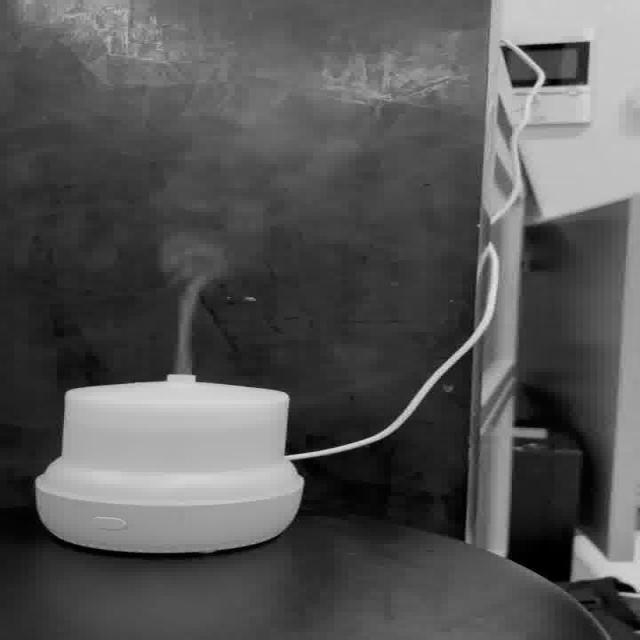fire: (156, 122, 352, 372)
